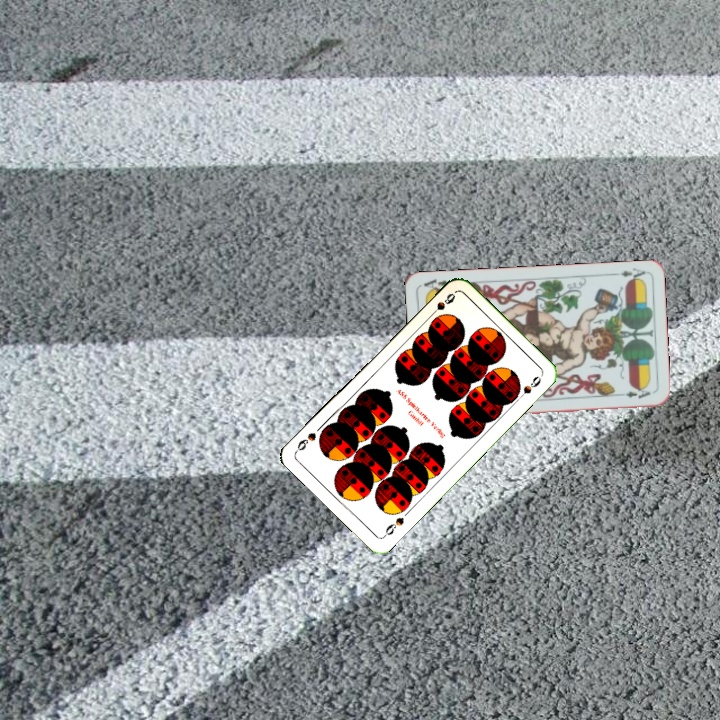EA: (608, 264, 648, 284)
S9: (425, 289, 458, 321), (380, 513, 407, 540)
